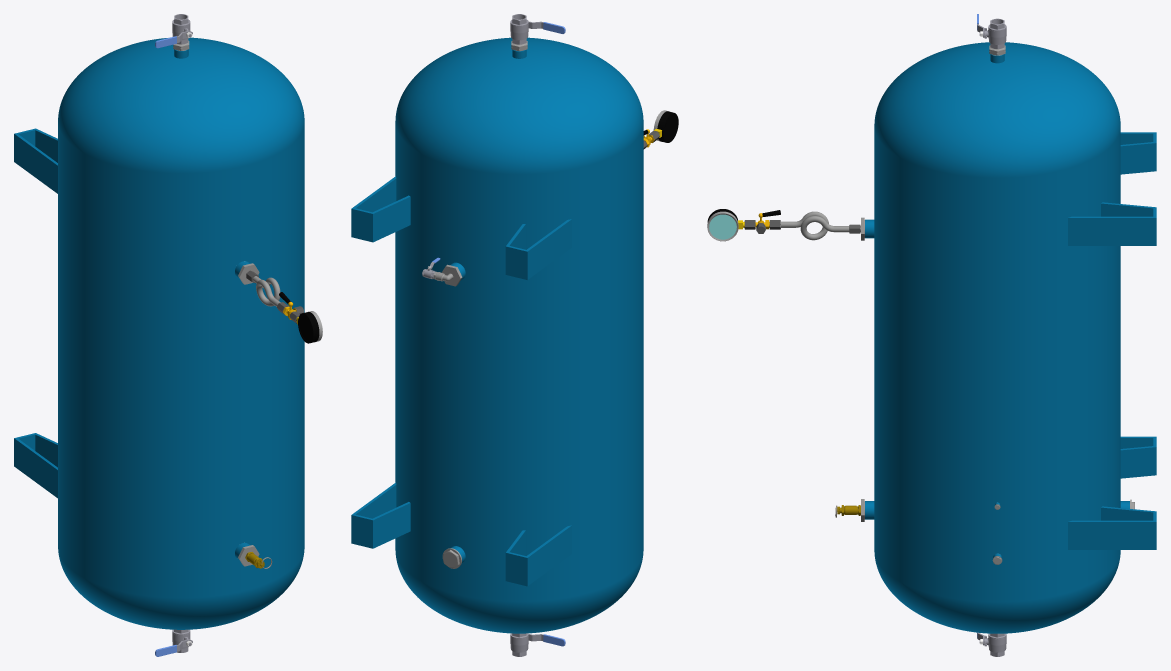
Rendered from tank.fbx.
3 views of the same model, side by side, from view 1: azimuth 30°, elevation 25°; view 2: azimuth 150°, elevation 25°; view 3: azimuth 270°, elevation 25° (orthographic).
Parts seen in each view (by area): view 1: VHP500-11A_body2, VHP500-11A_body5, KSSC_body2, MS07-15_body1; view 2: VHP500-11A_body2, VHP500-11A_body6, VHP500-11A_body5, MS07-15_body1; view 3: VHP500-11A_body2, VHP500-11A_body6, VHP500-11A_body5, KSSC_body2.
Part boxes in pixels (x1,y1,x2,y2): VHP500-11A_body2: (14, 37, 304, 629); VHP500-11A_body5: (14, 128, 57, 193); KSSC_body2: (252, 276, 280, 306); MS07-15_body1: (296, 311, 319, 343); VHP500-11A_body2: (351, 37, 643, 633); VHP500-11A_body6: (351, 176, 410, 242); VHP500-11A_body5: (505, 219, 571, 279); MS07-15_body1: (657, 111, 678, 142); VHP500-11A_body2: (874, 42, 1156, 633); VHP500-11A_body6: (1068, 202, 1156, 245); VHP500-11A_body5: (1120, 132, 1156, 174); KSSC_body2: (781, 211, 849, 240).
Size of the model in its own units: 819 by 1440 by 2238.
